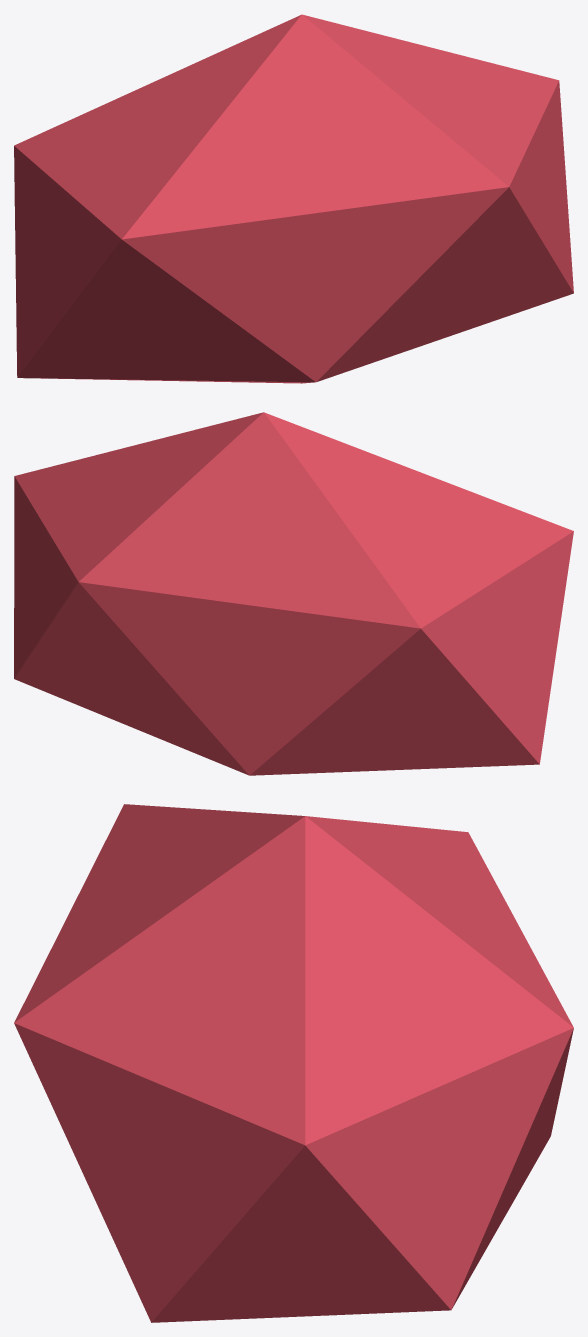
The model's file is item_017_berries_s.glb.
3 views of the same model, one above another, from view 1: azimuth 30°, elevation 25°; view 2: azimuth 150°, elevation 25°; view 3: azimuth 270°, elevation 25° (orthographic). The views are drawn at different scales.
Parts seen in each view (by area): view 1: item_017_berries_s; view 2: item_017_berries_s; view 3: item_017_berries_s.
Part boxes in pixels (left/top/right/bottom): item_017_berries_s: left=14, top=14, right=573, bottom=383; item_017_berries_s: left=14, top=412, right=573, bottom=775; item_017_berries_s: left=14, top=804, right=573, bottom=1322.
Size of the model in its own units: 0.3154 by 0.2052 by 0.2178.
